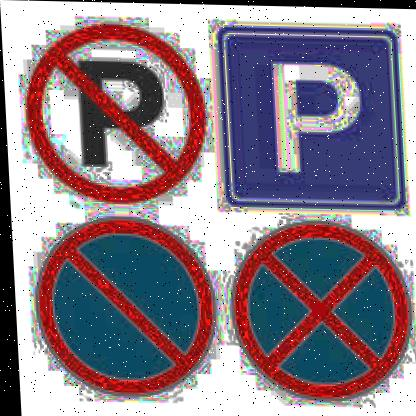No parking: (13, 20, 203, 204)
